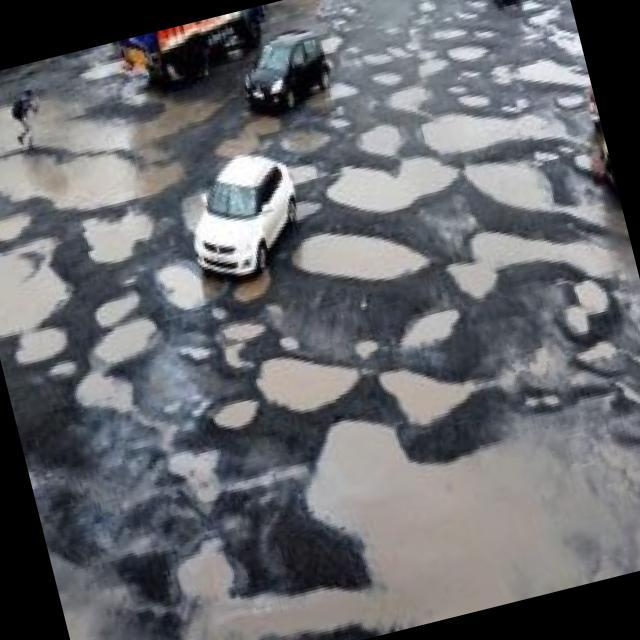Pothole: (34, 340, 640, 640), (0, 16, 252, 236), (435, 179, 640, 347), (42, 308, 205, 469), (412, 77, 607, 193), (264, 206, 448, 324), (313, 134, 475, 238), (248, 332, 405, 438), (370, 337, 491, 442), (0, 230, 90, 355), (488, 34, 592, 110), (70, 196, 169, 268), (203, 99, 293, 170), (148, 248, 232, 317), (294, 72, 370, 146), (365, 72, 447, 138), (392, 295, 469, 360), (207, 385, 292, 438), (270, 114, 330, 166), (91, 286, 145, 338), (354, 116, 404, 152), (372, 49, 409, 82), (412, 52, 451, 82), (378, 42, 416, 69), (454, 86, 489, 114), (446, 59, 480, 83)
